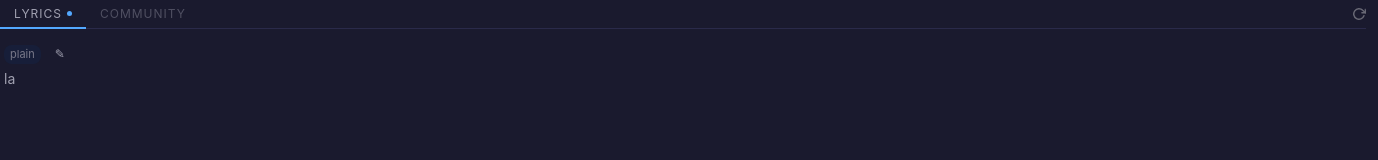
Test: plugin_view sections › are fetched only once their tab is shown, not because the page opened
Click the text "Community": (143, 14) left=100, top=6, right=186, bottom=21
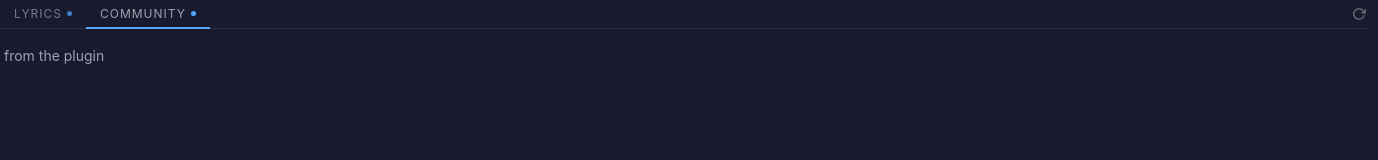
Check: the text "from the plugin" is shown, box left=4, top=47, right=104, bottom=64
